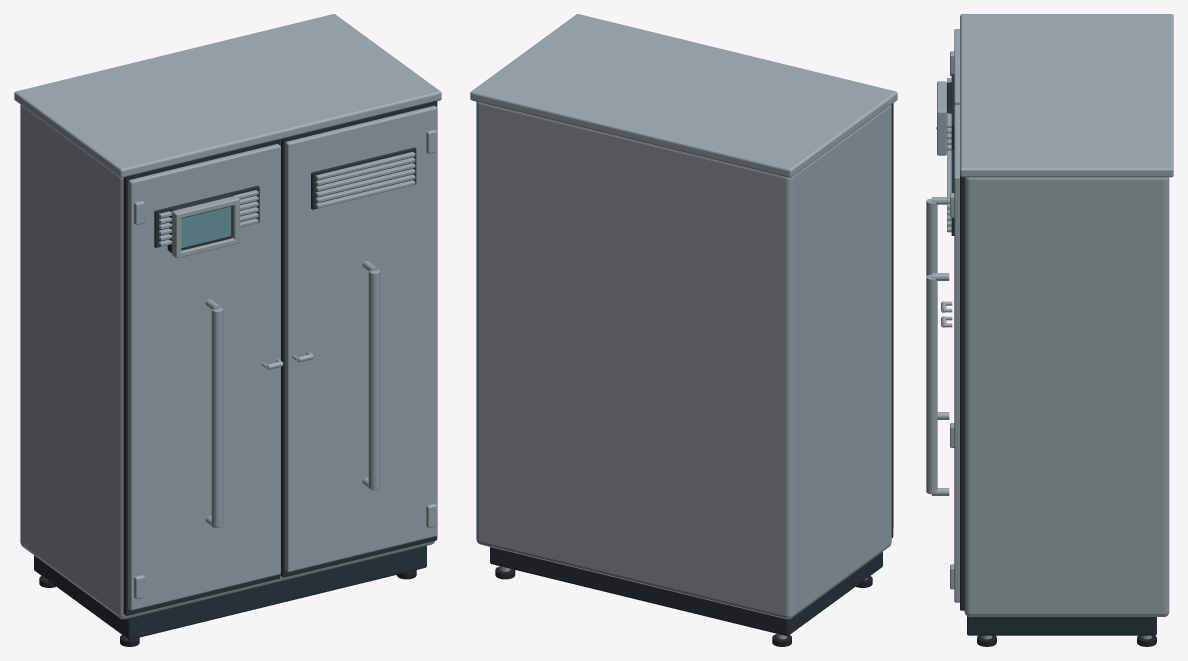
The model's file is RD_ColdStorage.fbx.
3 renders of one model, left to right at view 1: azimuth 30°, elevation 25°; view 2: azimuth 150°, elevation 25°; view 3: azimuth 270°, elevation 25°, orthographic.
Visible parts, largest first — view 1: RD_ColdStorage; view 2: RD_ColdStorage; view 3: RD_ColdStorage.
Part boxes in pixels (left/top/right/bottom): RD_ColdStorage: left=14, top=14, right=441, bottom=646; RD_ColdStorage: left=470, top=14, right=897, bottom=646; RD_ColdStorage: left=926, top=14, right=1173, bottom=646.
Size of the model in its own units: 147 by 214 by 99.05.
